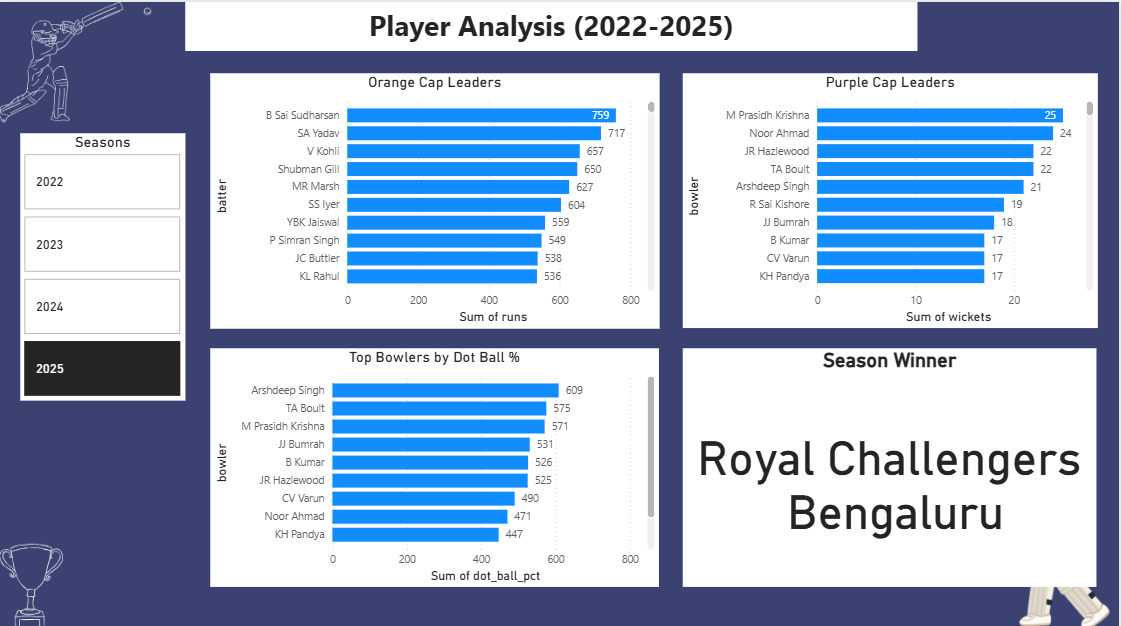

What the dashboard file says about the page in this screenshot:
{"tool":"powerbi","page":{"name":"Player Analysis","canvas":[1280,720],"ordinal":2},"visuals":[{"type":"textbox","box":[213.2,0,837,56.1],"z":0},{"type":"advancedSlicerVisual","title":"Seasons","fields":{"Values":["match_summary (1).season"]},"box":[24.3,150,188.6,305.7],"z":1000},{"type":"card","title":"Season Winner","fields":{"Values":["match_summary (1).Season Winner"]},"box":[781.4,395.7,472.9,272.9],"z":3000},{"type":"clusteredBarChart","title":"Orange Cap Leaders","fields":{"Category":["batter_stat.batter"],"Y":["Sum(batter_stat.runs)"]},"box":[241.7,81.7,513.3,291.7],"z":8000},{"type":"barChart","title":"Top Bowlers by Dot Ball %","fields":{"Y":["Sum(bowler_stat.dot_ball_pct)"],"Category":["bowler_stat.bowler"]},"box":[241.4,395.7,512.9,272.9],"z":10000},{"type":"clusteredBarChart","title":"Purple Cap Leaders","fields":{"Category":["bowler_stat.bowler"],"Y":["Sum(bowler_stat.wickets)"]},"box":[781.4,81.4,474.3,291.4],"z":12001}]}

Visuals, with their boxes in screenshot pixels (x1, y1, x2, y2), scaled from the page's 1280x720 canvas onto the 1121x626 screenshot:
textbox: x1=187 y1=0 x2=920 y2=49
"Seasons" advancedSlicerVisual: x1=21 y1=130 x2=186 y2=396
"Season Winner" card: x1=684 y1=344 x2=1098 y2=581
"Orange Cap Leaders" clusteredBarChart: x1=212 y1=71 x2=661 y2=325
"Top Bowlers by Dot Ball %" barChart: x1=211 y1=344 x2=661 y2=581
"Purple Cap Leaders" clusteredBarChart: x1=684 y1=71 x2=1100 y2=324
